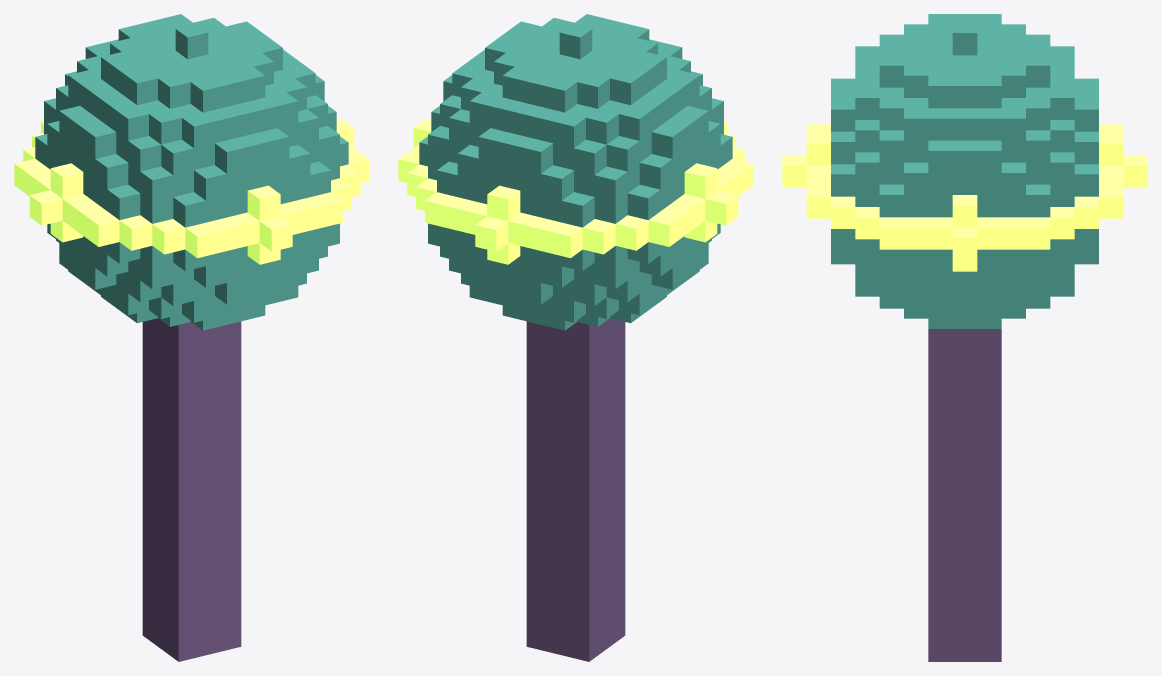
File: alien-biosphere-orb-tree-8f615efd__22686.glb
3 renders of one model, left to right at view 1: azimuth 30°, elevation 25°; view 2: azimuth 150°, elevation 25°; view 3: azimuth 270°, elevation 25°, orthographic.
Parts seen in each view (by area): view 1: orb-tree; view 2: orb-tree; view 3: orb-tree.
Part boxes in pixels (x1=…): orb-tree: x1=14, y1=14, x2=369, y2=661; orb-tree: x1=398, y1=14, x2=753, y2=661; orb-tree: x1=782, y1=14, x2=1147, y2=661.
Bounding box in the file's own units: 3 × 5.6 × 3.
